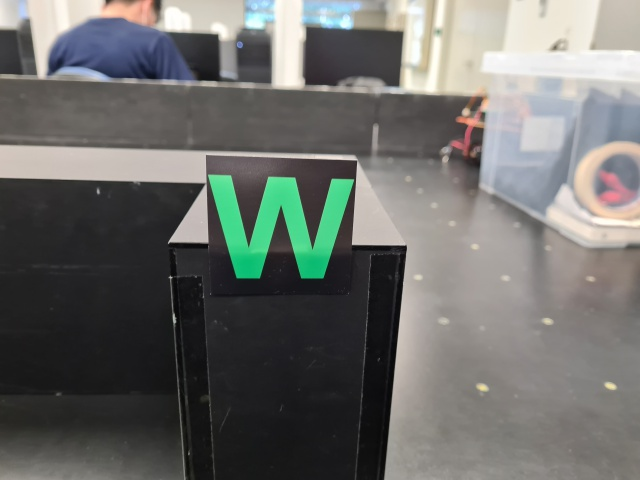alphabet_w: (205, 155, 358, 297)
